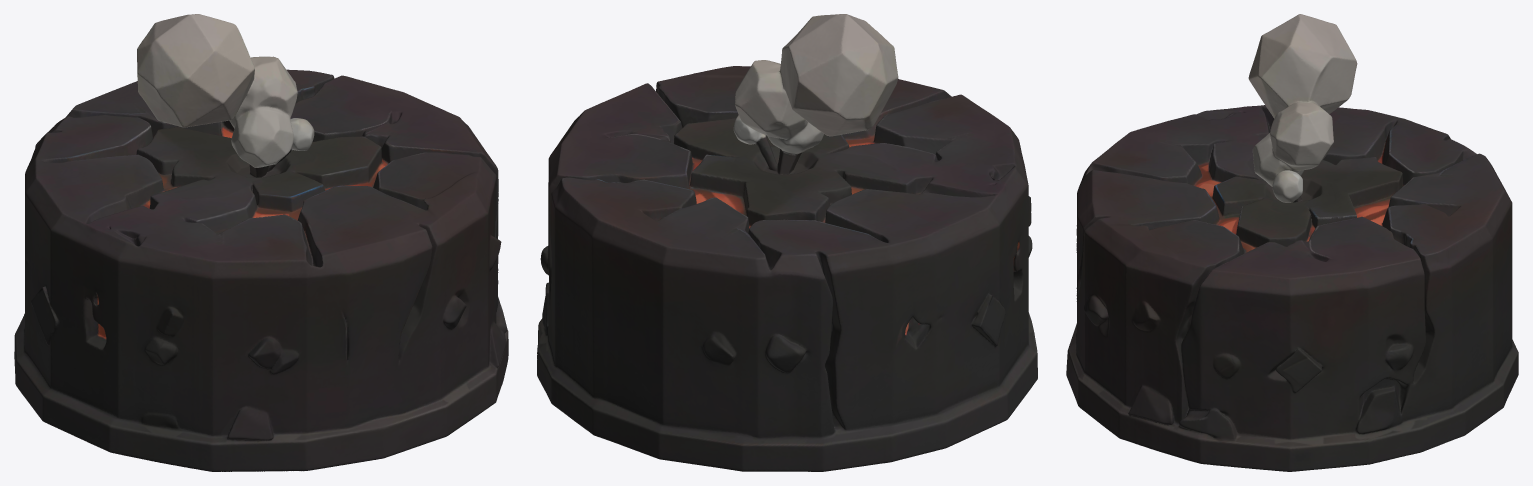
The model's file is cake quemado 3d model.glb.
The picture shows the model from 3 angles, left to right: view 1: azimuth 30°, elevation 25°; view 2: azimuth 150°, elevation 25°; view 3: azimuth 270°, elevation 25°; orthographic projection. The views are drawn at different scales.
Parts seen in each view (by area): view 1: tripo_node_4e803f5c-7627-4b15-a352-d6b11c0332cc; view 2: tripo_node_4e803f5c-7627-4b15-a352-d6b11c0332cc; view 3: tripo_node_4e803f5c-7627-4b15-a352-d6b11c0332cc.
Boxes of the visible parts, bbox=[...] form: tripo_node_4e803f5c-7627-4b15-a352-d6b11c0332cc: bbox=[14, 14, 508, 471]; tripo_node_4e803f5c-7627-4b15-a352-d6b11c0332cc: bbox=[537, 14, 1037, 471]; tripo_node_4e803f5c-7627-4b15-a352-d6b11c0332cc: bbox=[1066, 14, 1518, 471].
Bounding box in the file's own units: 0.9789 × 1 × 0.968.
1 material, 1 textured.
